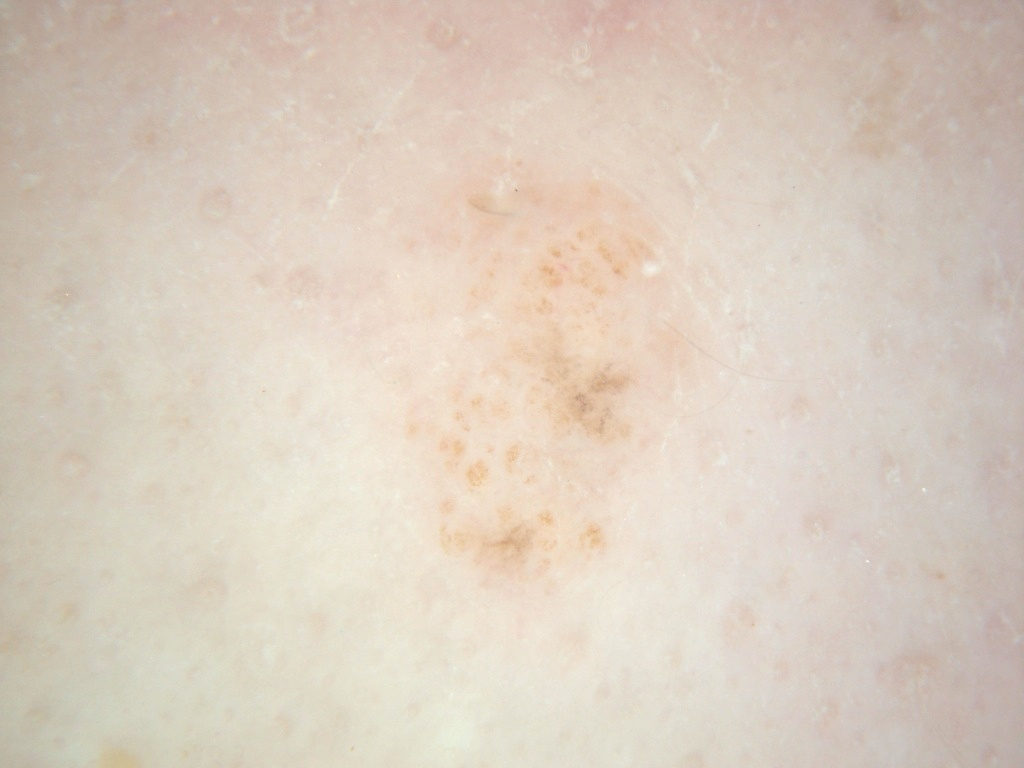Detected Lesion: (428, 208, 663, 593)
